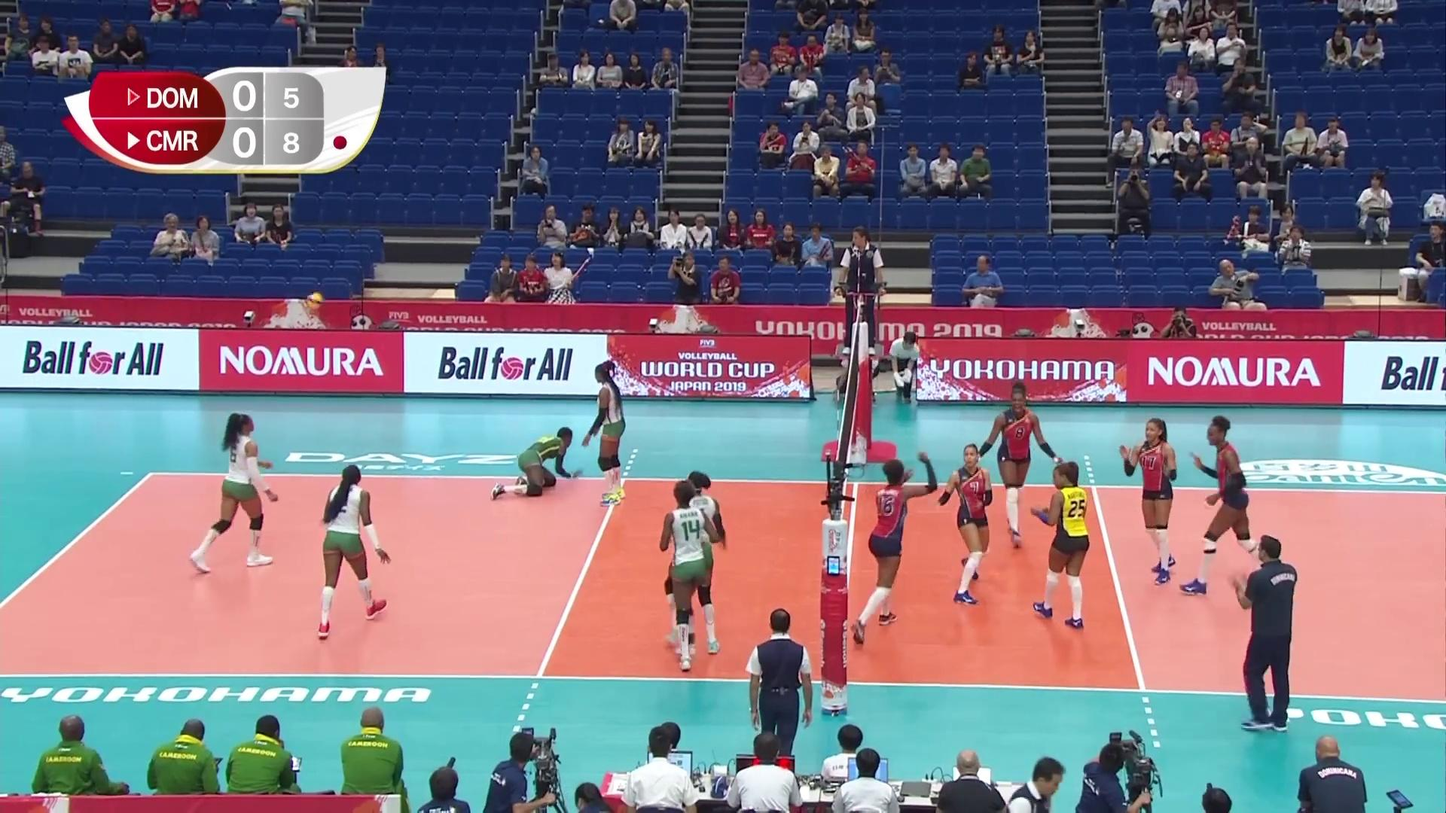player: (1181, 417, 1285, 595), (851, 453, 939, 646), (186, 415, 278, 572), (973, 384, 1058, 546), (315, 464, 392, 639), (664, 472, 728, 655), (663, 481, 719, 675), (1121, 418, 1180, 582), (1037, 462, 1094, 630), (936, 445, 993, 607), (492, 428, 578, 503), (584, 361, 625, 504)
refree: (744, 608, 814, 759), (837, 227, 884, 352)
